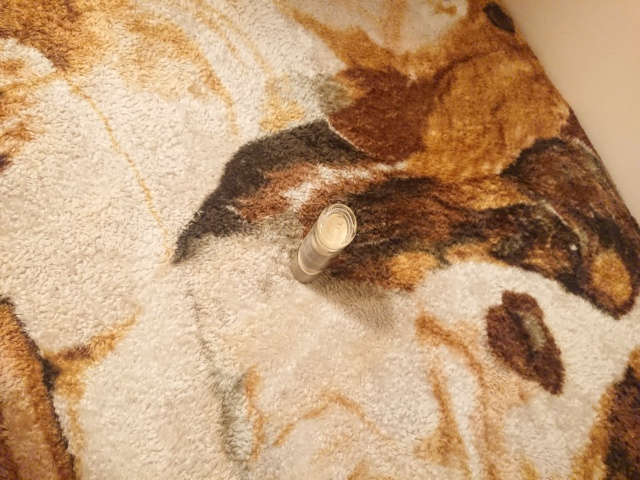Kotanyi Garlic Granules 70g: (289, 201, 359, 286)
